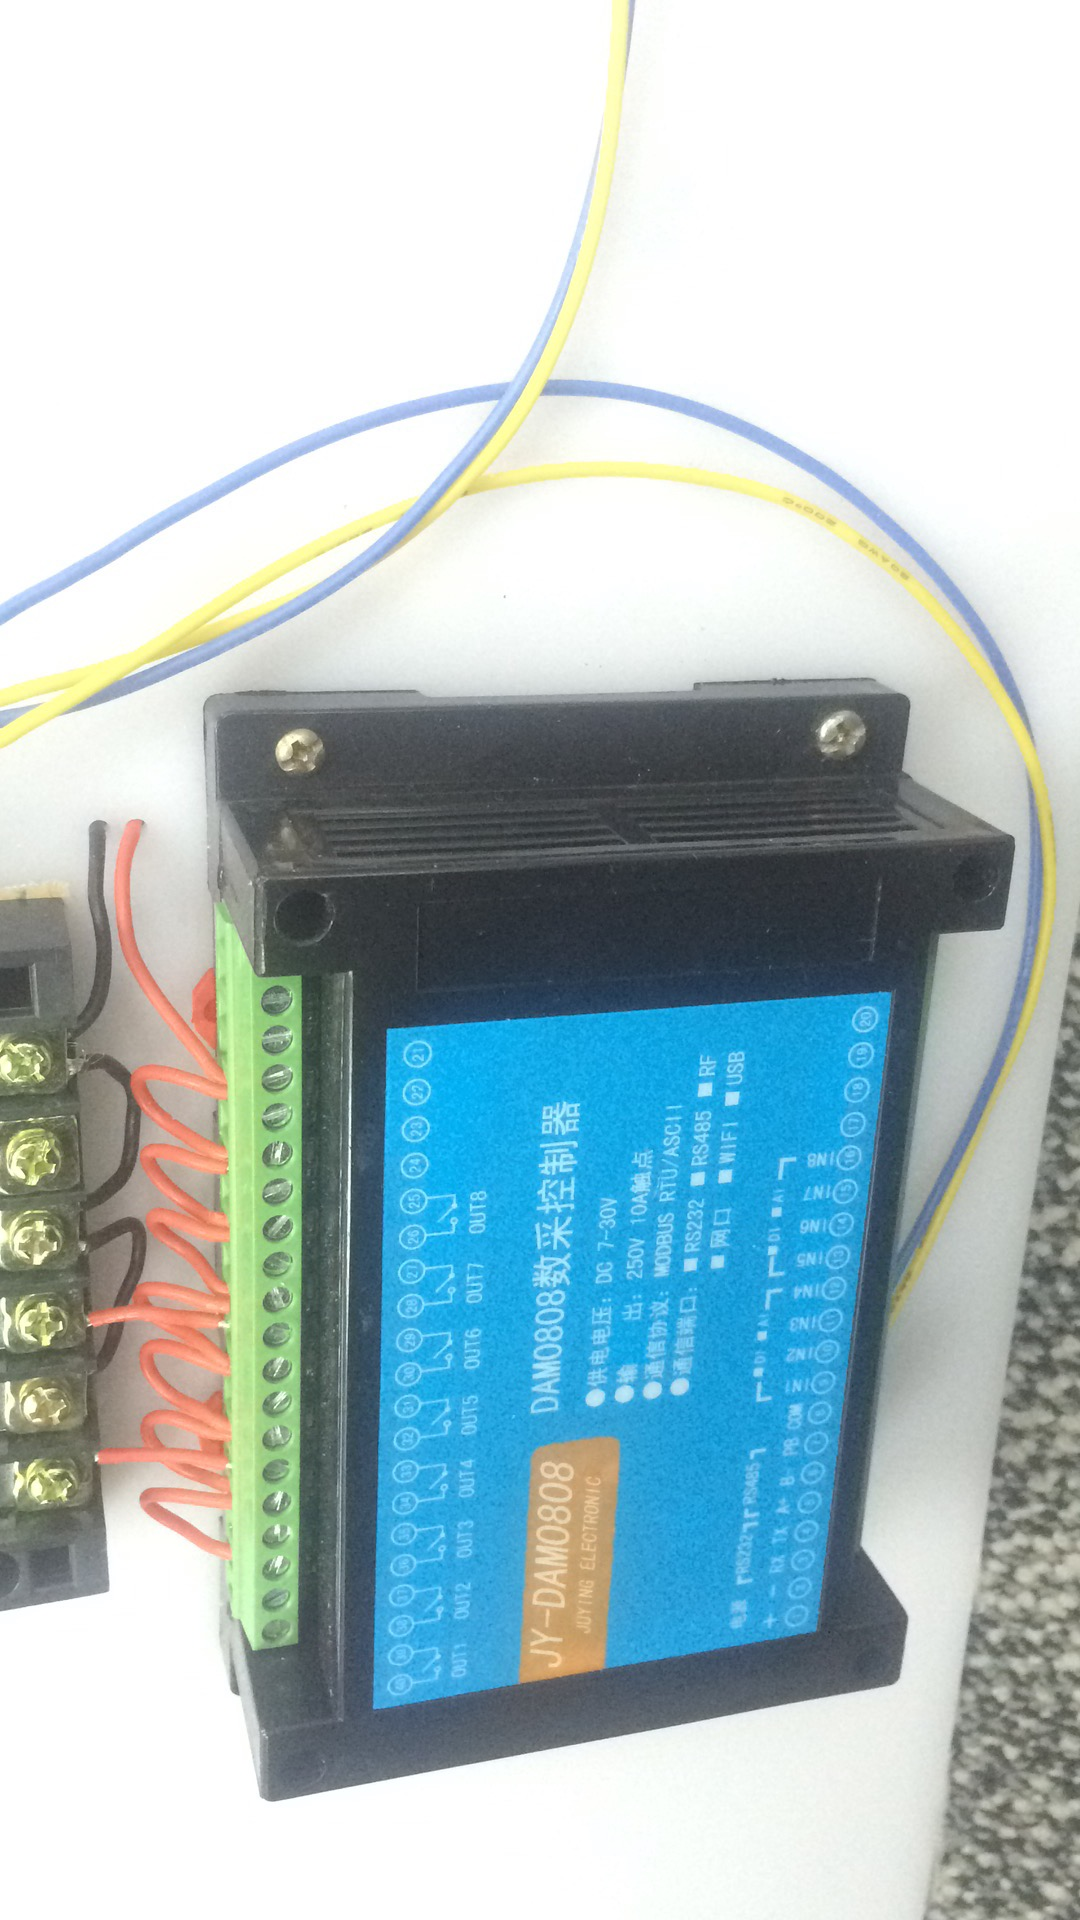relay: (187, 662, 948, 1770)
